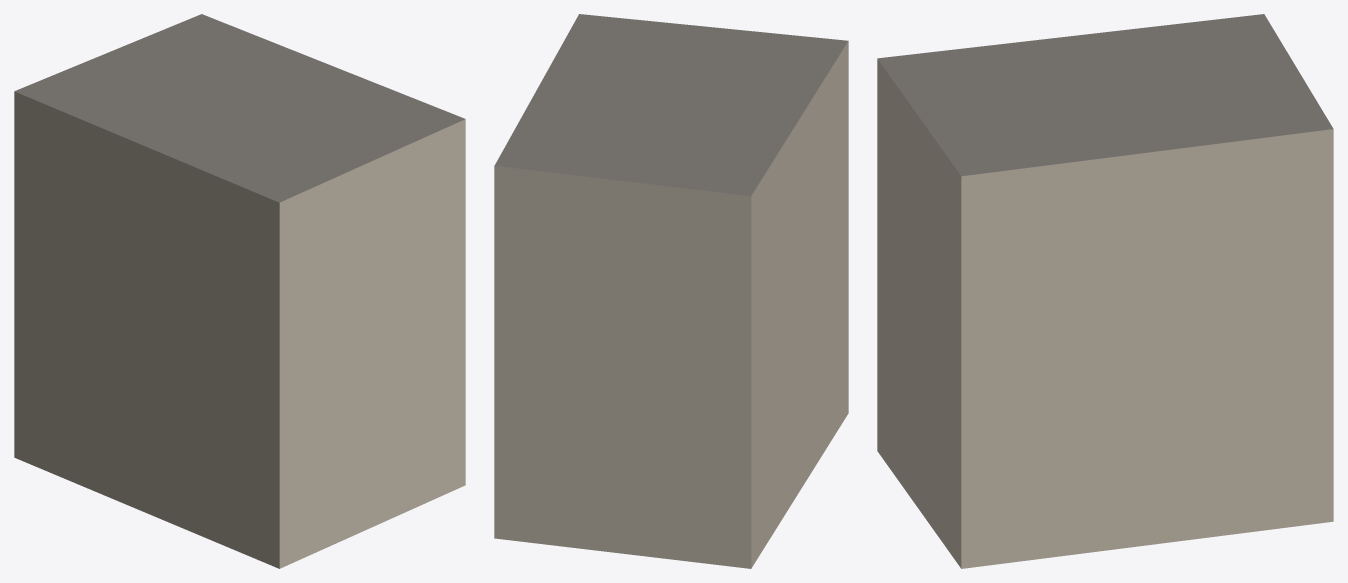
3 renders of one model, left to right at view 1: azimuth 30°, elevation 25°; view 2: azimuth 150°, elevation 25°; view 3: azimuth 270°, elevation 25°, orthographic. The views are drawn at different scales.
Visible parts, largest first — view 1: HP-w1197248207; view 2: HP-w1197248207; view 3: HP-w1197248207.
Part boxes in pixels (x1,y1,x2,y2): HP-w1197248207: (14,14,465,568); HP-w1197248207: (494,14,848,568); HP-w1197248207: (877,14,1333,568).
Bounding box in the file's own units: 15.96 × 18 × 18.96.
